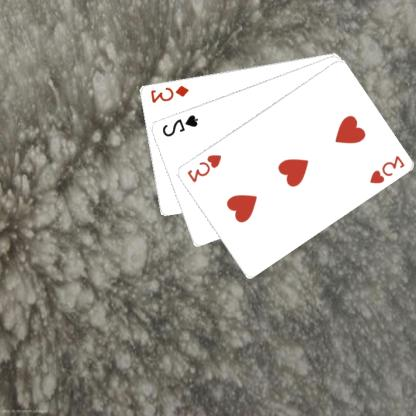2S: (161, 112, 201, 138)
3D: (149, 82, 192, 104)
3H: (186, 151, 224, 184), (368, 153, 407, 185)
